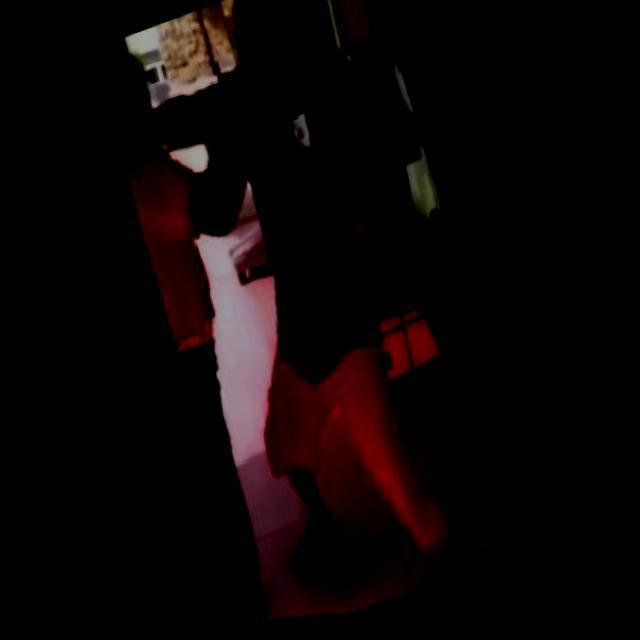fight: (76, 0, 479, 635)
